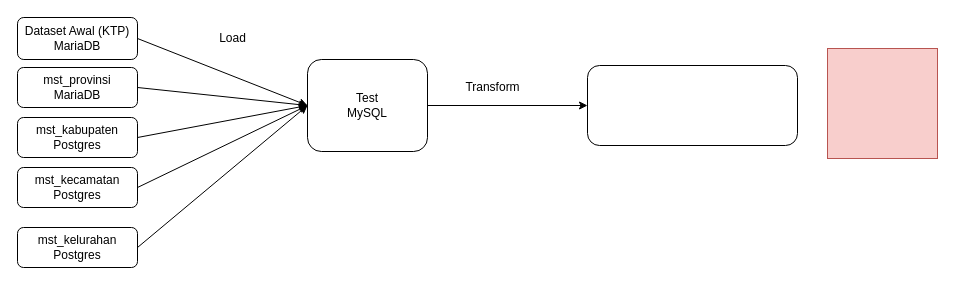
The diagram is 955 pixels wide and 285 high, and some of its shapes have lost their labels. The centre of each missing label's shape, as x and y in pixels:
Dataset Output (KTP with details) MySQL: (x=692, y=105)
Id Id KTP Nama_Provinsi Nama_Kabupaten Jenis Kelamin Tanggal Lahir: (x=882, y=103)
